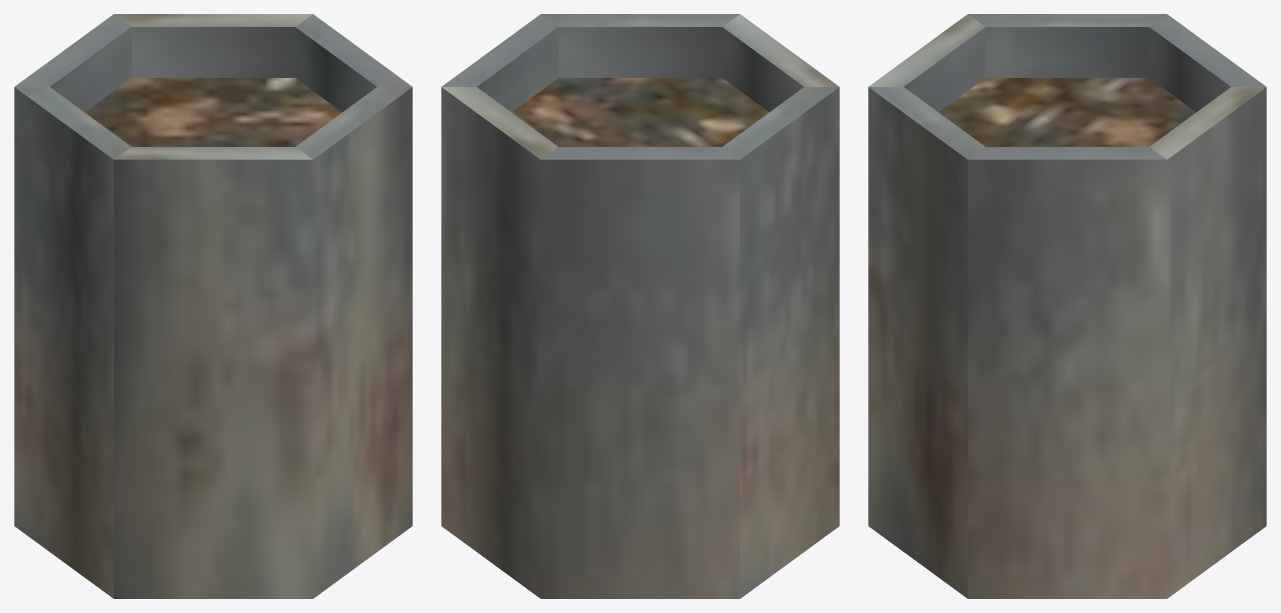
The model's file is barrel.obj.
3 views of the same model, side by side, from view 1: azimuth 30°, elevation 25°; view 2: azimuth 150°, elevation 25°; view 3: azimuth 270°, elevation 25° (orthographic).
Parts seen in each view (by area): view 1: Object_4.002; view 2: Object_4.002; view 3: Object_4.002.
Part boxes in pixels (x1,y1,x2,y2): Object_4.002: [14, 14, 412, 598]; Object_4.002: [441, 14, 839, 598]; Object_4.002: [868, 14, 1266, 598].
Bounding box in the file's own units: 0.5997 × 0.8421 × 0.6924.
Materials: 2 (2 with a texture image).
